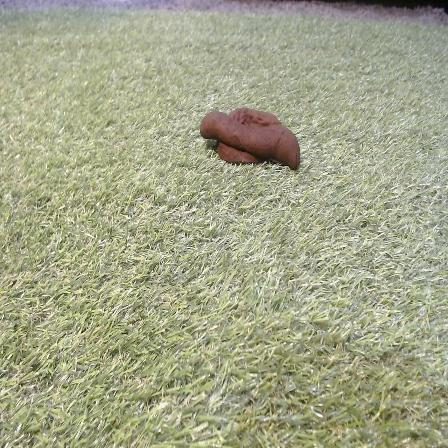dog-poop: (200, 104, 300, 170)
